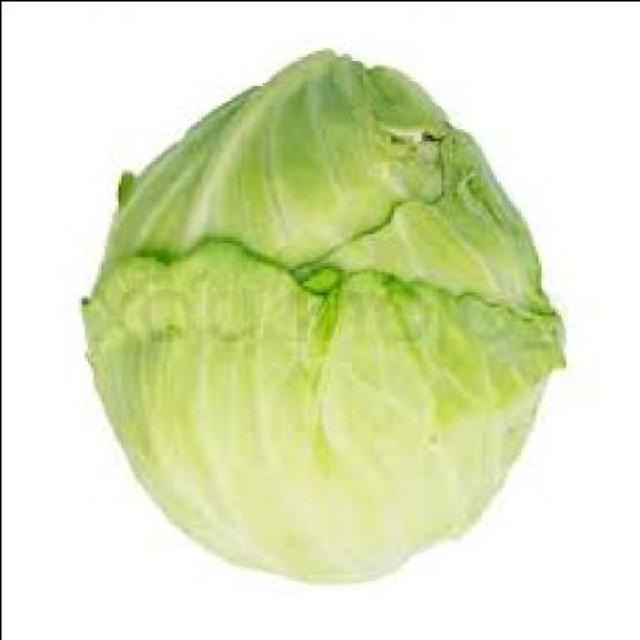BIODEGRADABLE: (84, 55, 567, 588)
